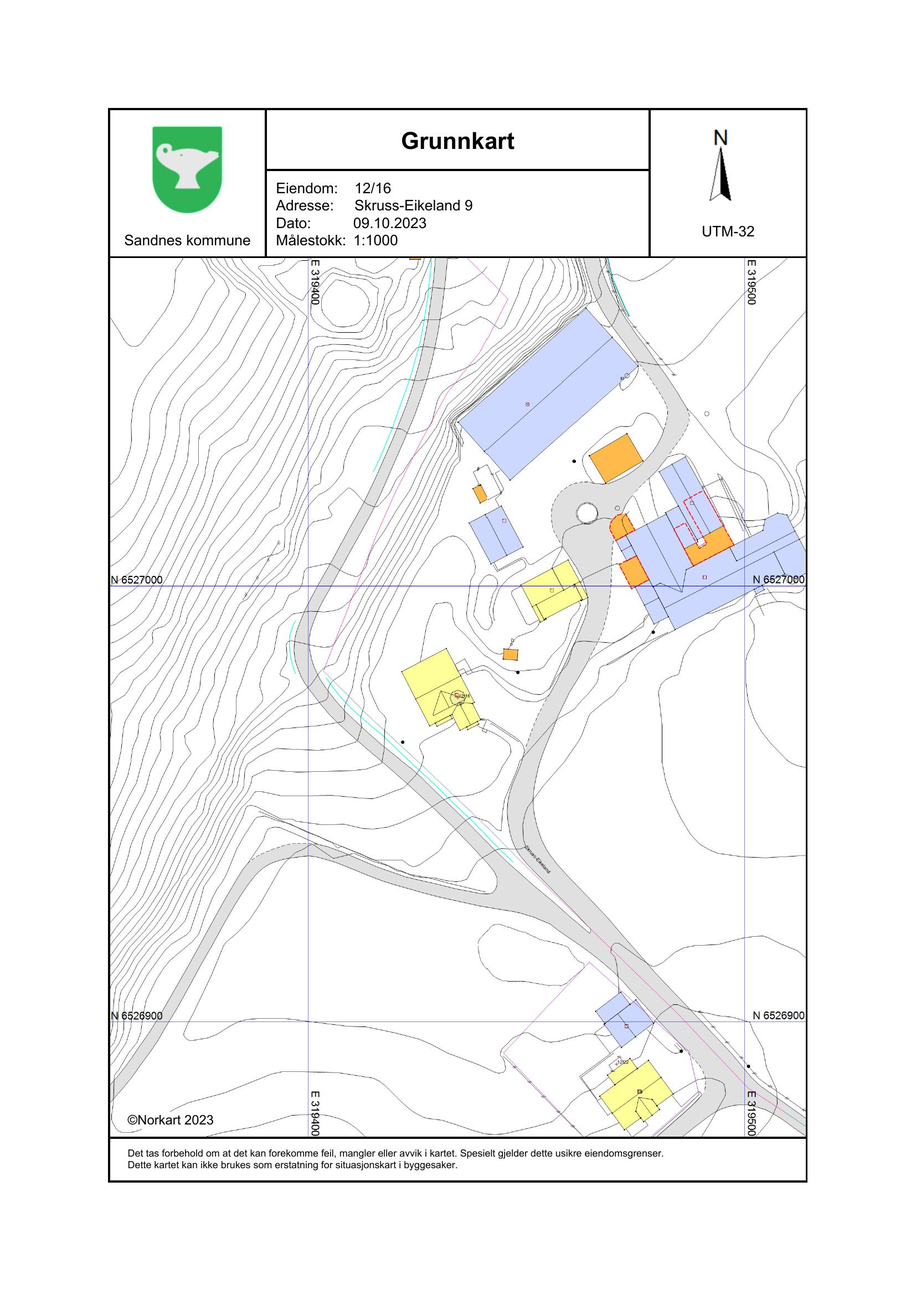situasjonskart: (106, 255, 809, 1141)
